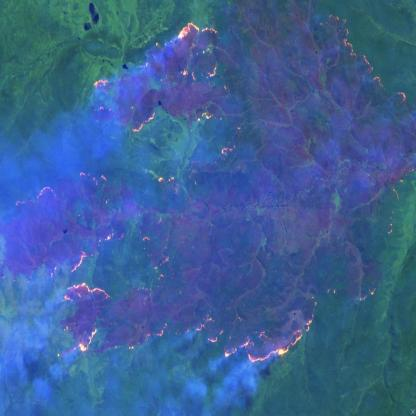fire: (0, 17, 320, 416)
